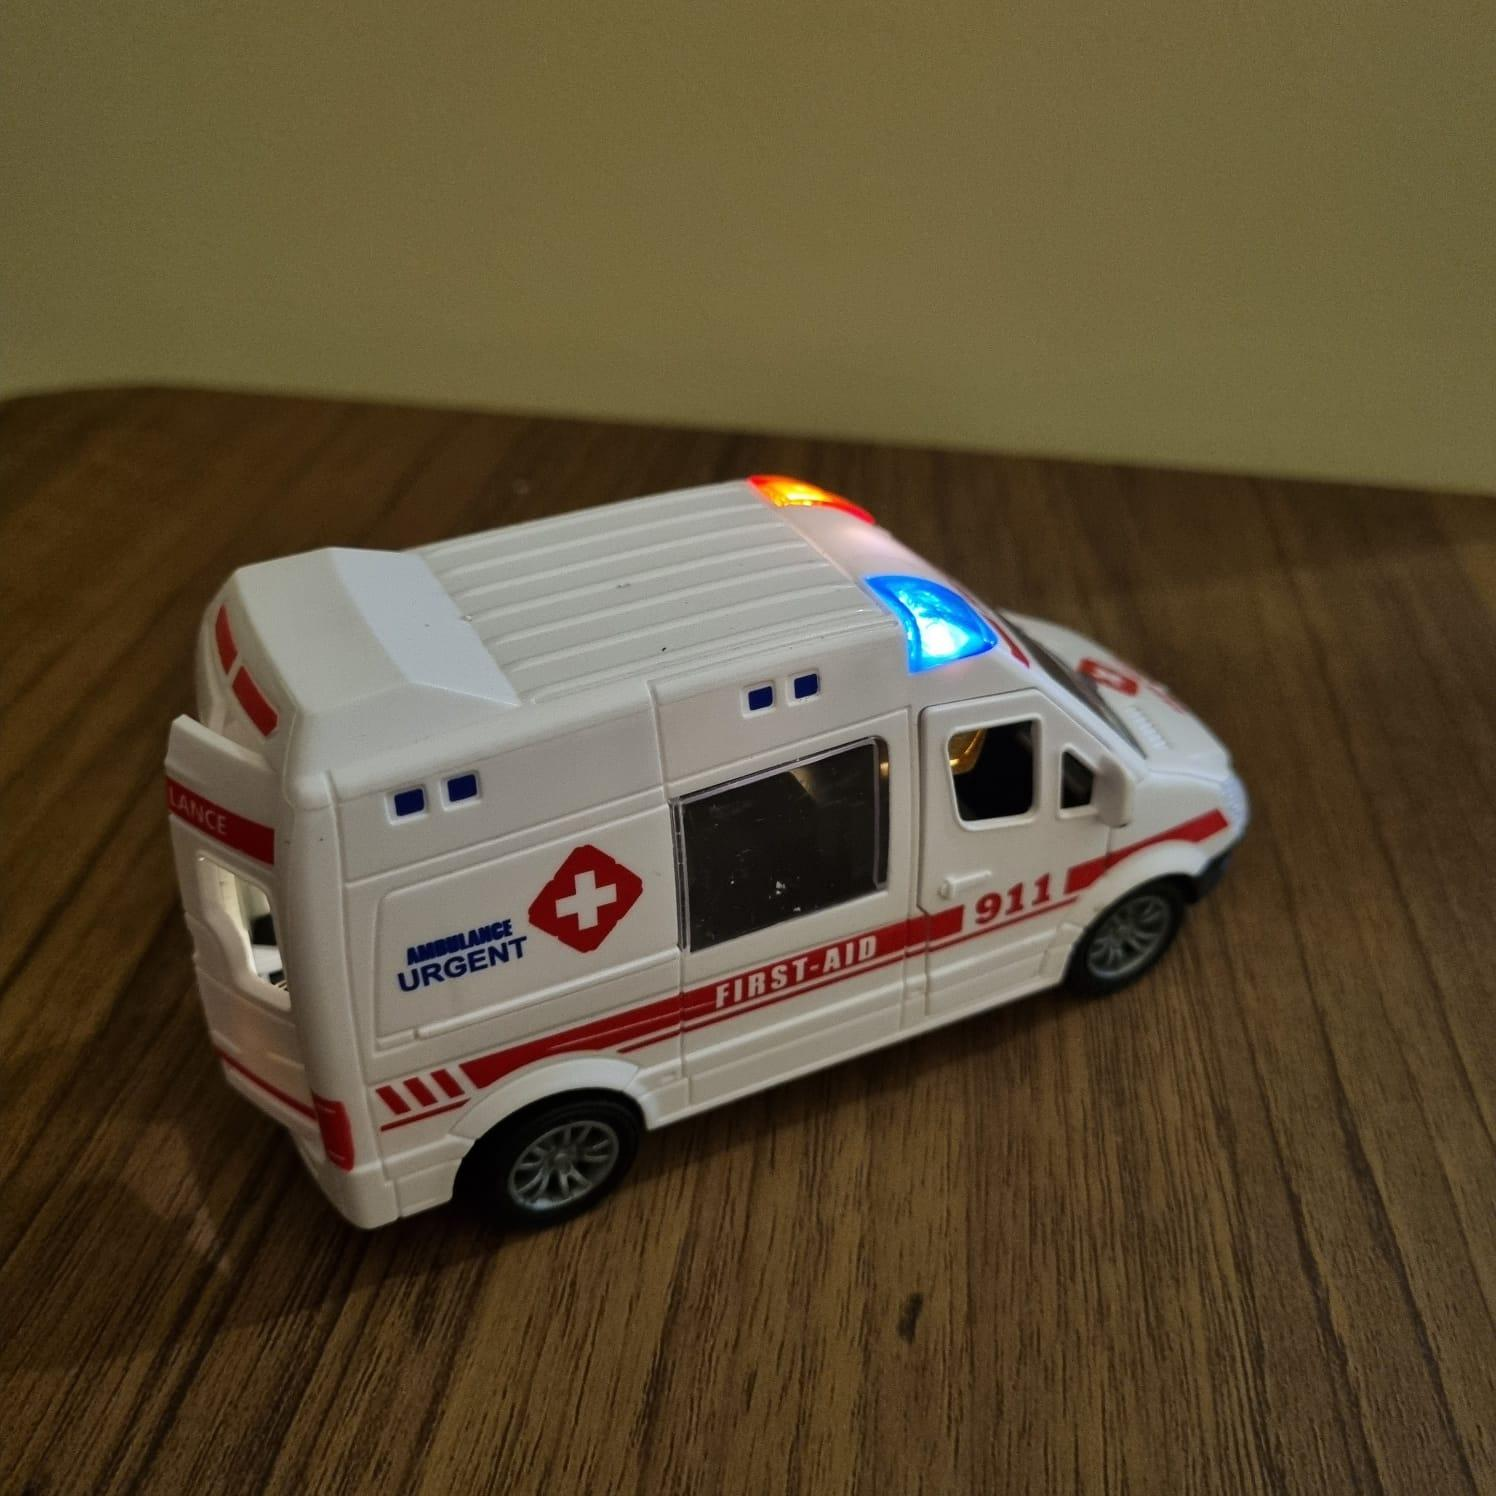ambulance_on: (171, 464, 1251, 1245)
